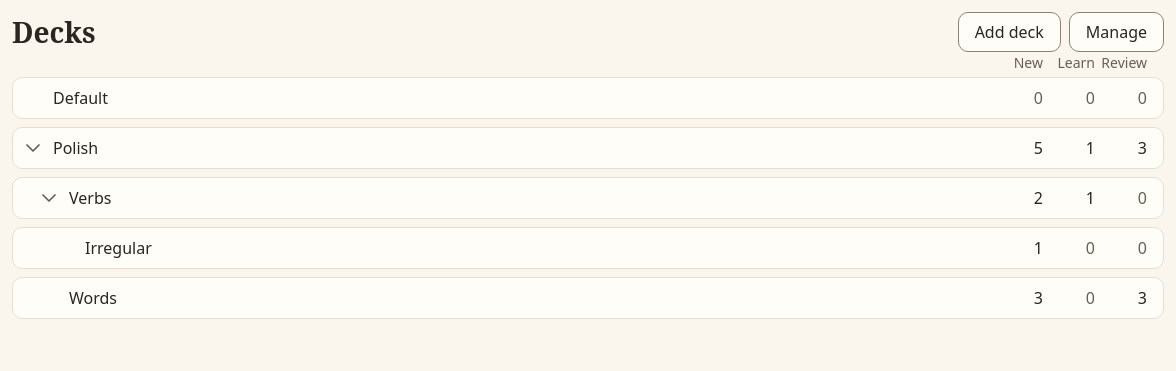
Managing decks › the Default deck has no Delete
What coordinates should you click on to do the following:
click the button "Manage"
I would click on:
 (1116, 32)
Its box is [1069, 12, 1164, 52].
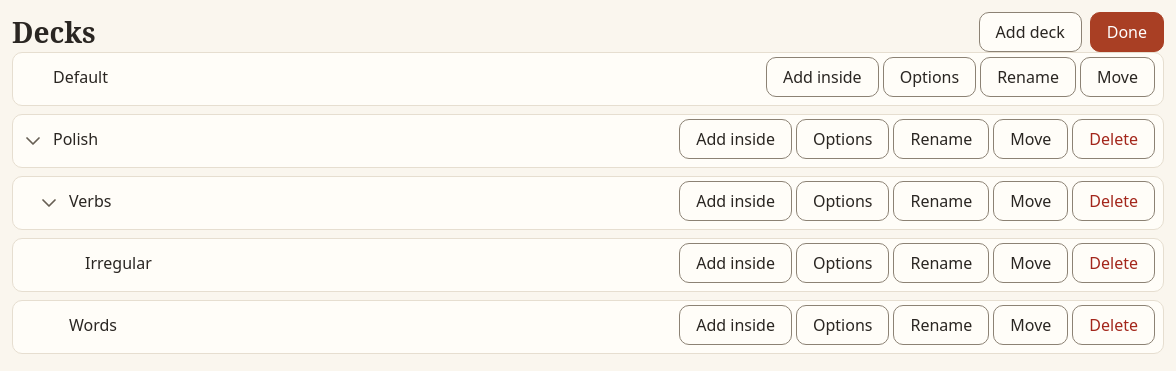
Result: the button named "Rename Default" is shown at [980, 57, 1076, 97]
Result: the button named "Delete Polish" is shown at [1072, 119, 1155, 159]
